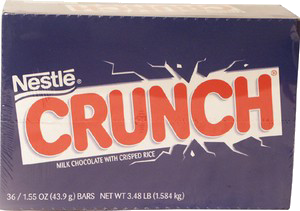grozi_50: (0, 0, 299, 210)
